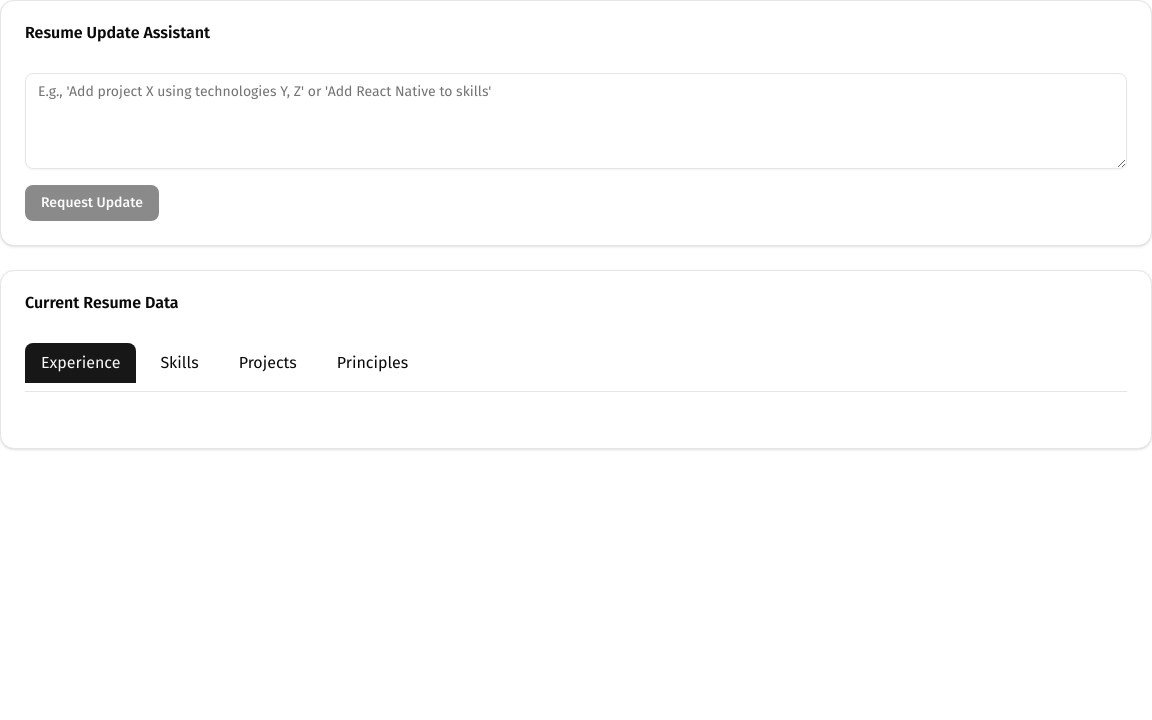
Scenario: Admin Workflows Integration Tests › Resume Update Workflow › handles resume update errors
Type "Add new project" into the text box with placeholder "Add project X" at (576, 121), box left=25, top=73, right=1127, bottom=169
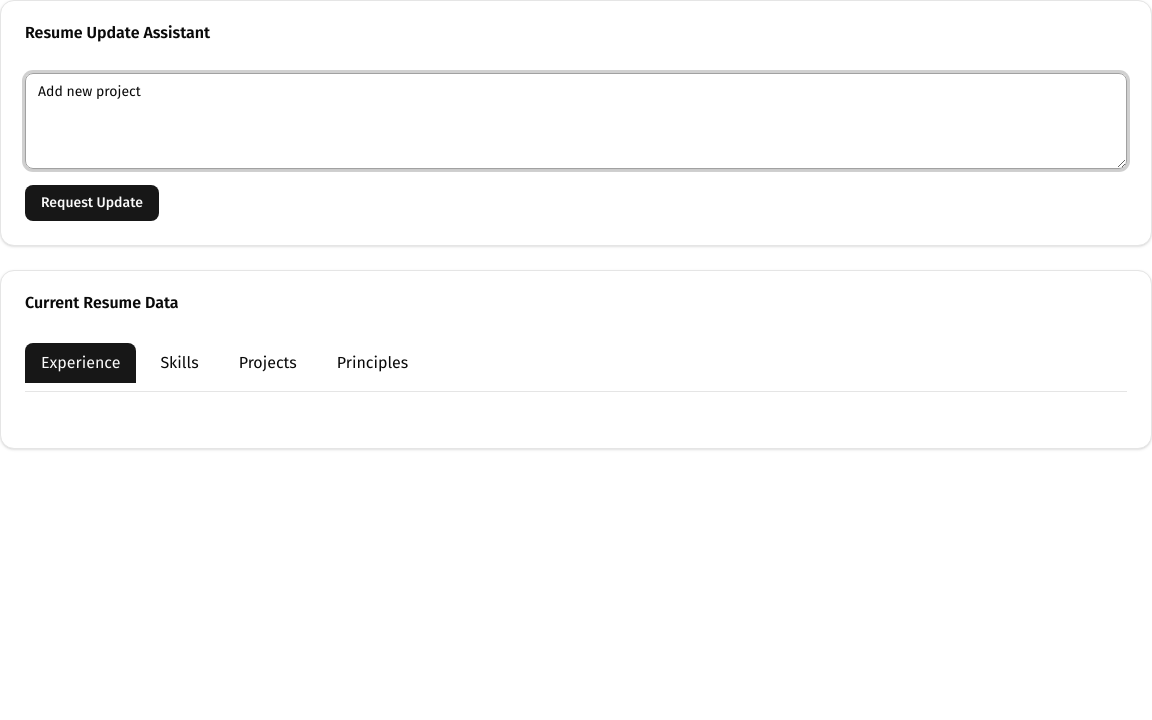
Click the button "Request Update" at (92, 203), box left=25, top=185, right=159, bottom=221
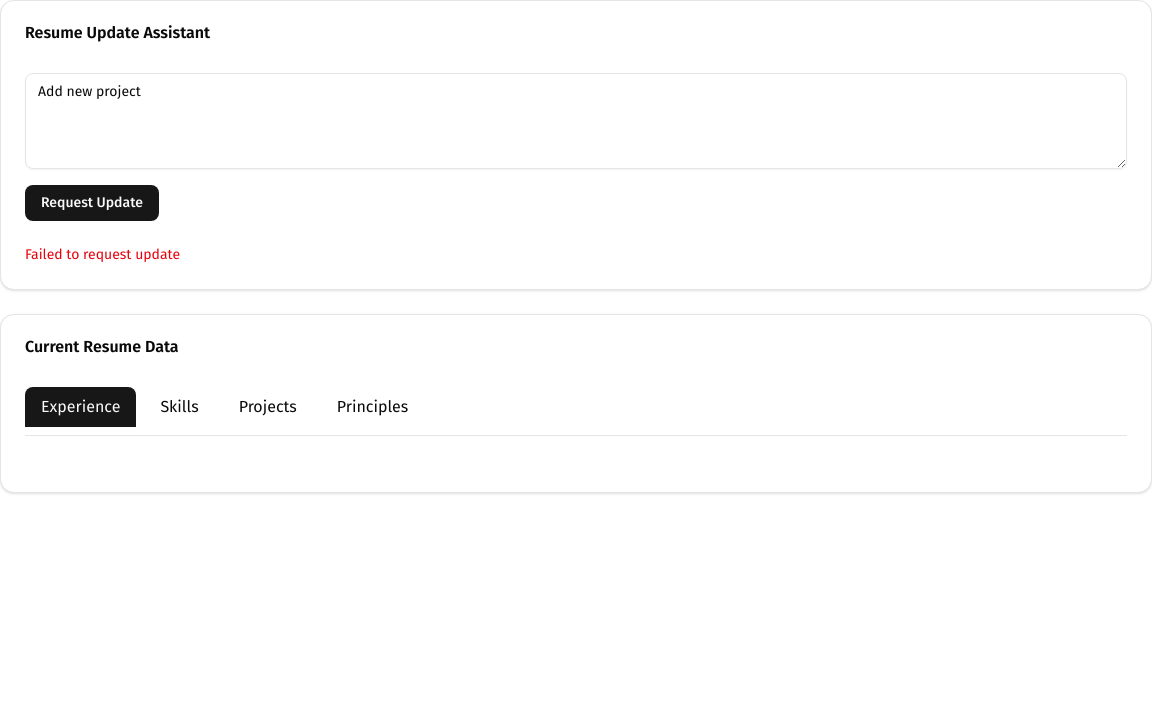
Check: the text "Failed to request update" is shown, box left=25, top=246, right=180, bottom=263
